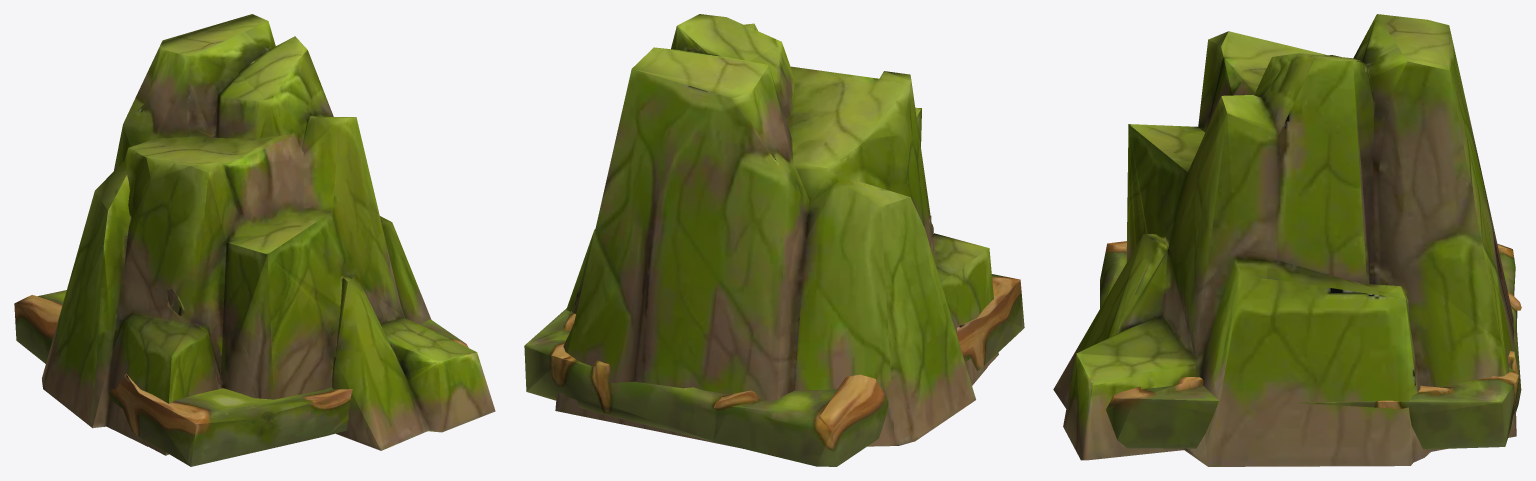
Rendered from mtn_swamp.glb.
The picture shows the model from 3 angles, left to right: view 1: azimuth 30°, elevation 25°; view 2: azimuth 150°, elevation 25°; view 3: azimuth 270°, elevation 25°; orthographic projection. The views are drawn at different scales.
Visible parts, largest first — view 1: Mesh1.0, Mesh0; view 2: Mesh1.0, Mesh0; view 3: Mesh1.0, Mesh0.
Part boxes in pixels (left/top/right/bottom): Mesh1.0: left=42, top=14, right=495, bottom=455; Mesh0: left=14, top=290, right=468, bottom=466; Mesh1.0: left=555, top=14, right=998, bottom=447; Mesh0: left=524, top=274, right=1024, bottom=466; Mesh1.0: left=1053, top=14, right=1516, bottom=466; Mesh0: left=1100, top=241, right=1521, bottom=449.
Bounding box in the file's own units: 2.28 × 2.04 × 2.44.
2 materials, 2 textured.
